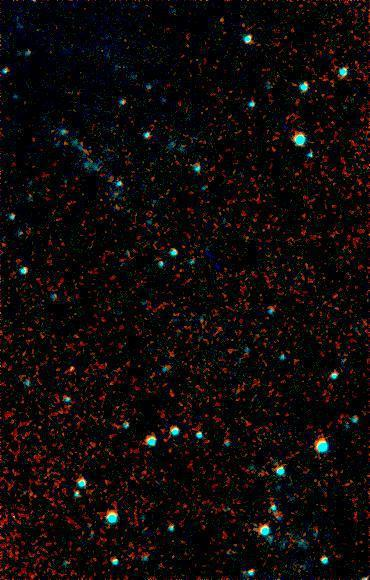star: (207, 5, 237, 35)
